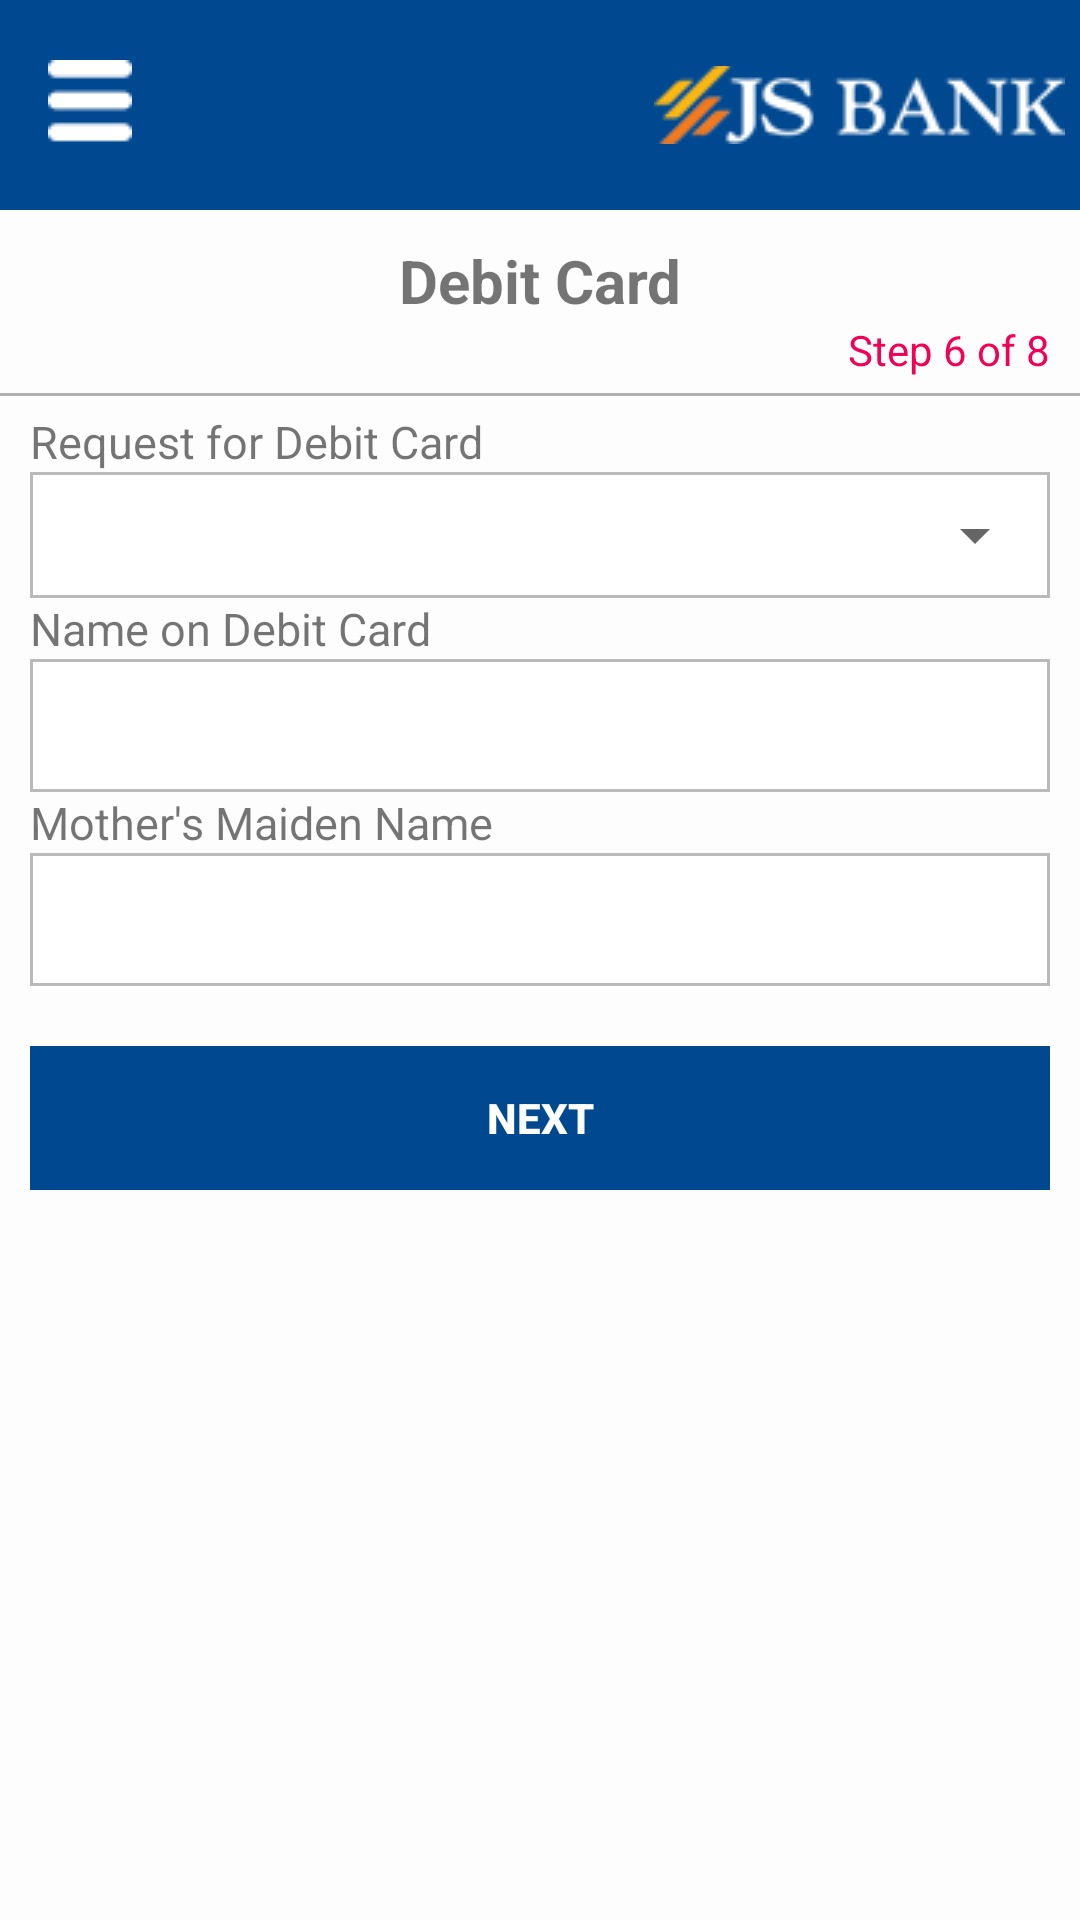

Icon bounding boxes for this 1080×1920 phone screenshot, format detection(x1, y1, x2, y2):
menu: detection(48, 60, 132, 142)
